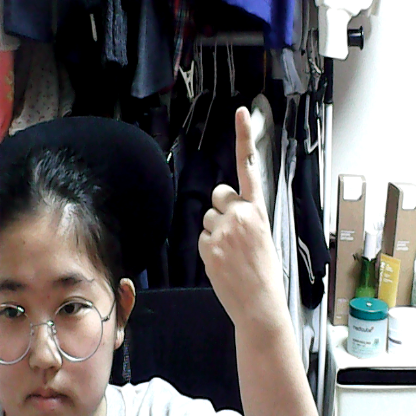Finger_1: (178, 84, 276, 303)
